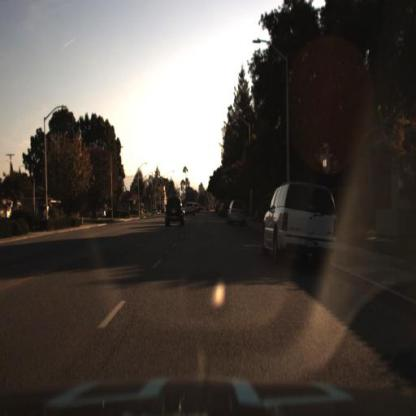car: (260, 179, 343, 266), (224, 196, 249, 227), (164, 196, 187, 228), (87, 205, 108, 219), (185, 202, 196, 219)
